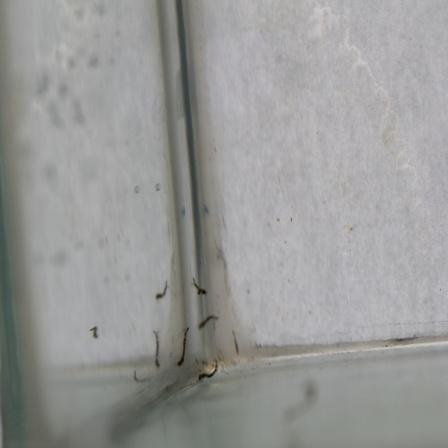Jentik-Nyamuk: (174, 325, 191, 370), (188, 273, 211, 303), (196, 359, 223, 383)
